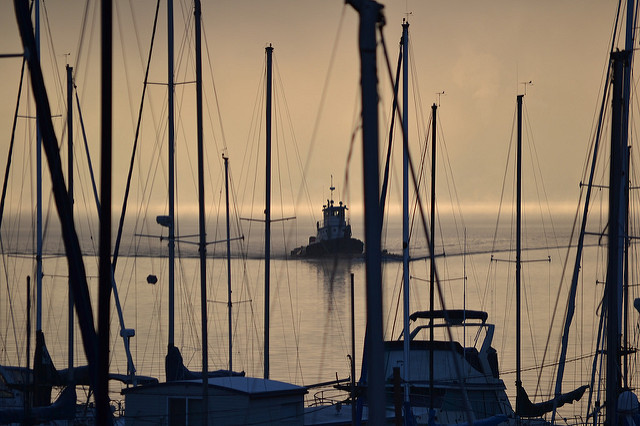tug_boat: (291, 174, 362, 261)
